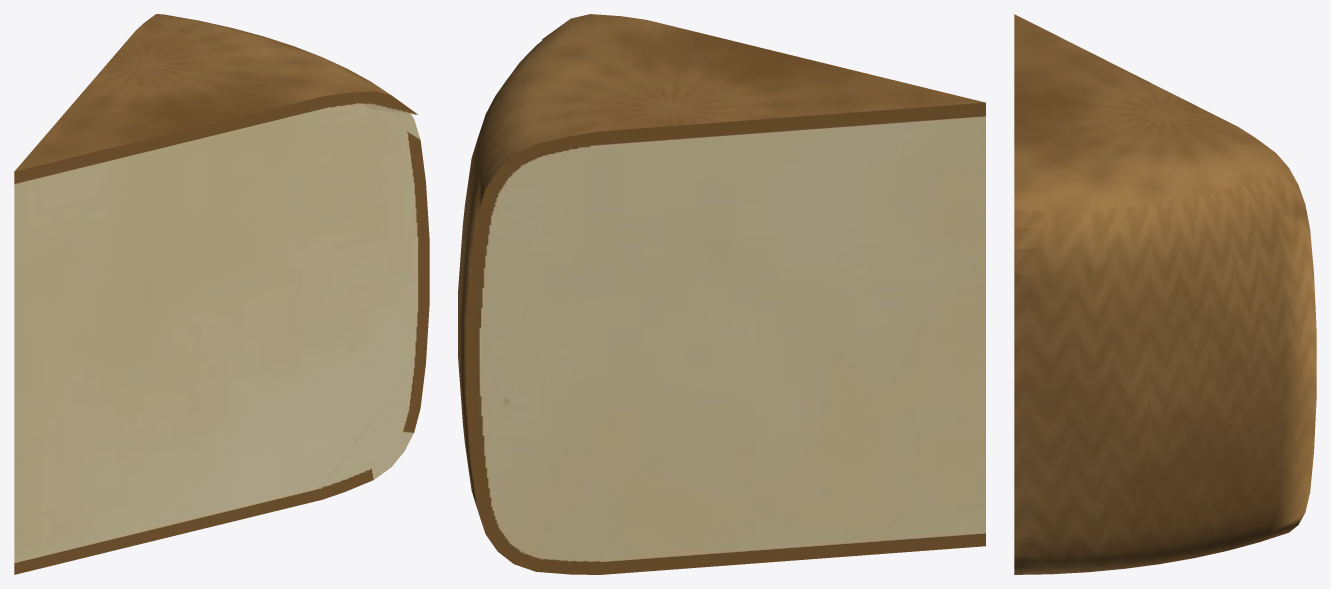
Rendered from cuna_queso.glb.
3 views of the same model, side by side, from view 1: azimuth 30°, elevation 25°; view 2: azimuth 150°, elevation 25°; view 3: azimuth 270°, elevation 25° (orthographic). The views are drawn at different scales.
Parts seen in each view (by area): view 1: cuna_queso; view 2: cuna_queso; view 3: cuna_queso.
Boxes of the visible parts, x1,y1,x2,y2 form: cuna_queso: (14, 14, 429, 574); cuna_queso: (458, 14, 985, 574); cuna_queso: (1014, 14, 1316, 574).
Bounding box in the file's own units: 0.1078 × 0.1 × 0.0693.
1 material, 1 textured.
